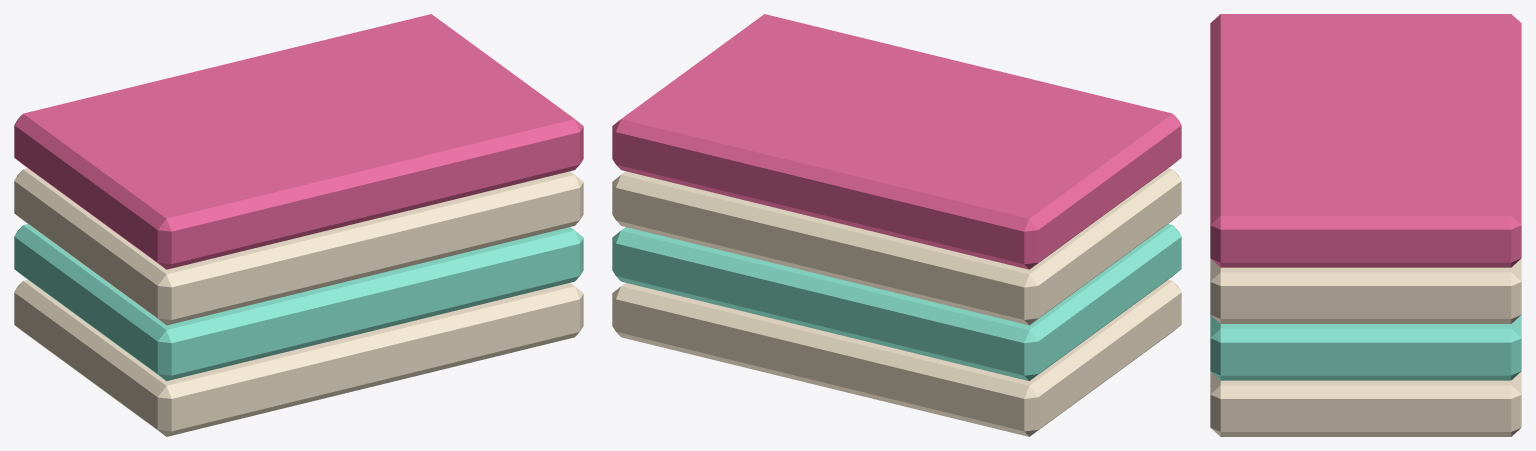
3 renders of one model, left to right at view 1: azimuth 30°, elevation 25°; view 2: azimuth 150°, elevation 25°; view 3: azimuth 270°, elevation 25°, orthographic.
Parts seen in each view (by area): view 1: towels3, towels0, towels1, towels2; view 2: towels3, towels0, towels1, towels2; view 3: towels3, towels0, towels1, towels2.
Part boxes in pixels (x1,y1,x2,y2): towels3: [14, 14, 583, 269]; towels0: [14, 279, 583, 436]; towels1: [14, 224, 583, 381]; towels2: [14, 168, 583, 325]; towels3: [612, 14, 1181, 269]; towels0: [612, 279, 1181, 436]; towels1: [612, 224, 1181, 381]; towels2: [612, 168, 1181, 325]; towels3: [1210, 14, 1521, 267]; towels0: [1210, 371, 1521, 436]; towels1: [1210, 315, 1521, 380]; towels2: [1210, 258, 1521, 323].
Size of the model in its own units: 48 by 23.5 by 30.
